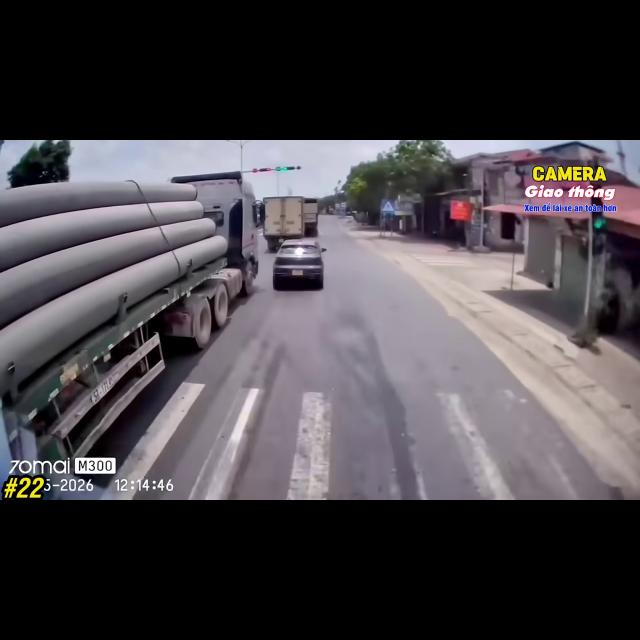car: (273, 239, 326, 289)
truck: (2, 172, 258, 465), (263, 196, 304, 251), (304, 198, 318, 238)
